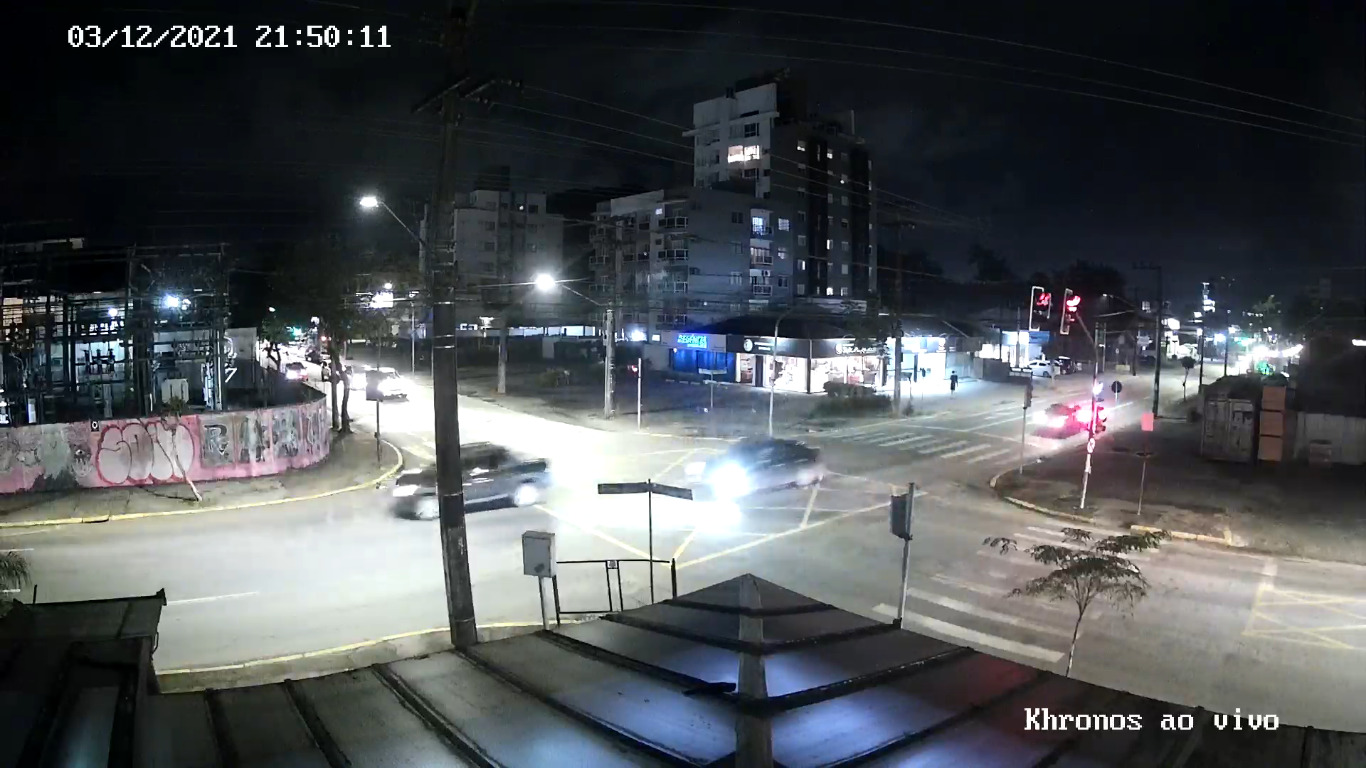car: (390, 440, 550, 521)
